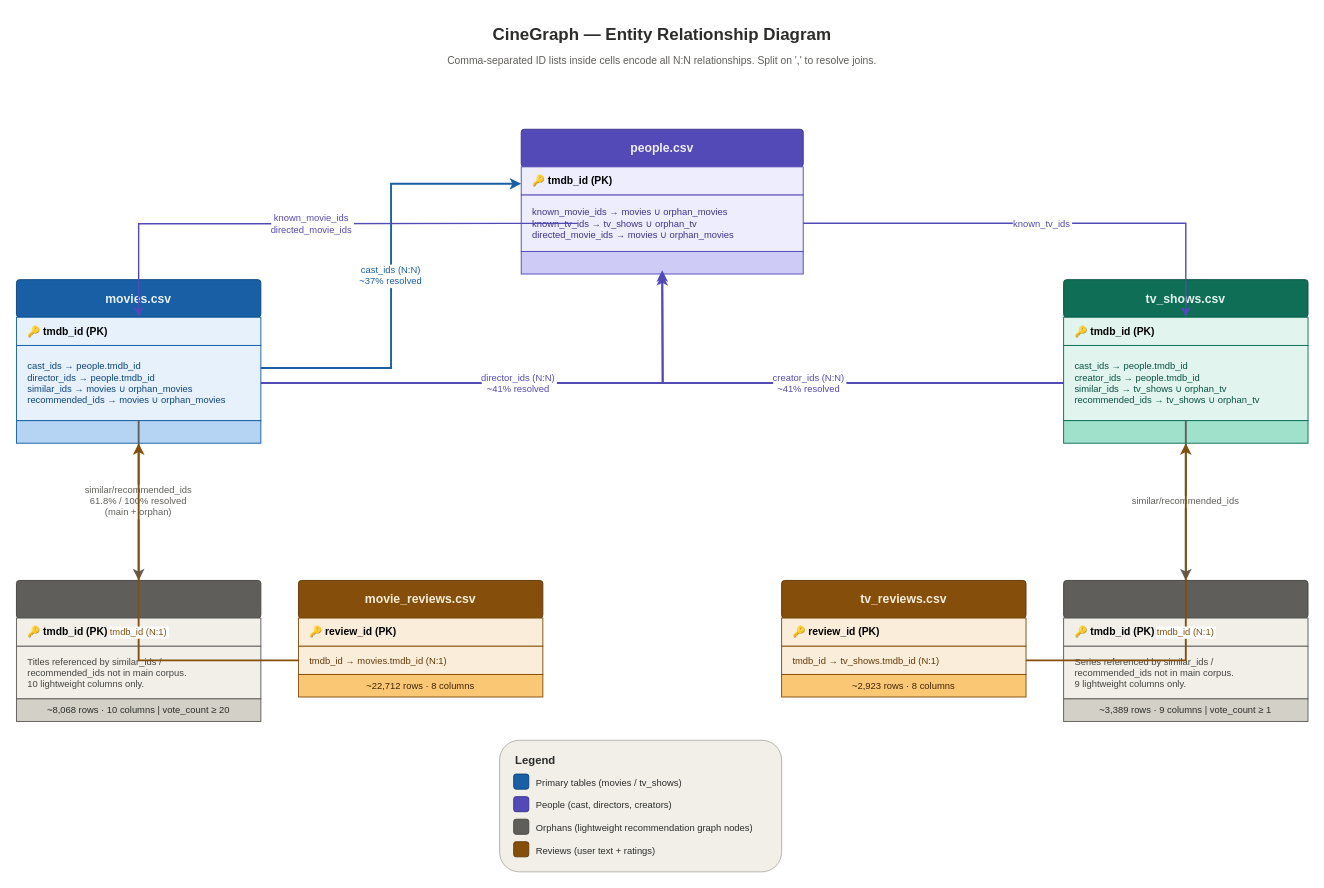
This 1324x888 diagram has some shape labels left out. Each missing label, with the centre of its shape:
"orphan_movies.csv" goes at point 138,599.
"orphan_tv.csv" goes at point 1185,599.
"~15,562 rows · 55 columns" goes at point 1185,431.
"~22,393 rows · 55 columns" goes at point 138,431.
"~58,393 rows · 24 columns | person_min_refs ≥ 2" goes at point 661,262.
